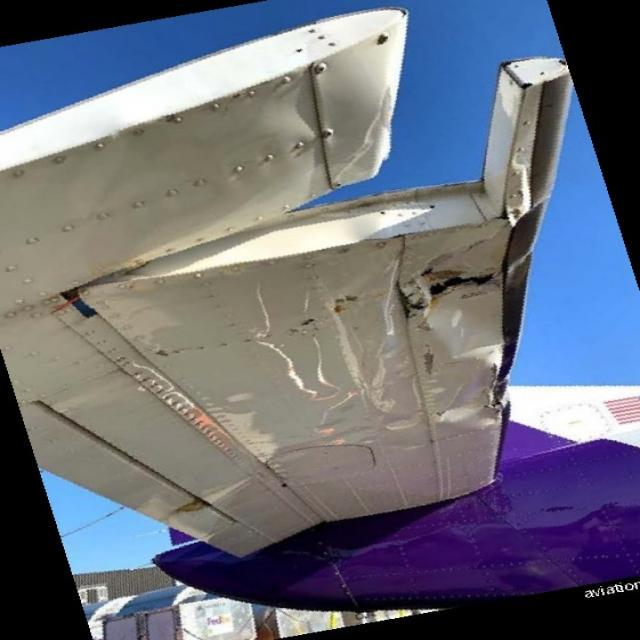dent: (429, 348, 511, 435)
